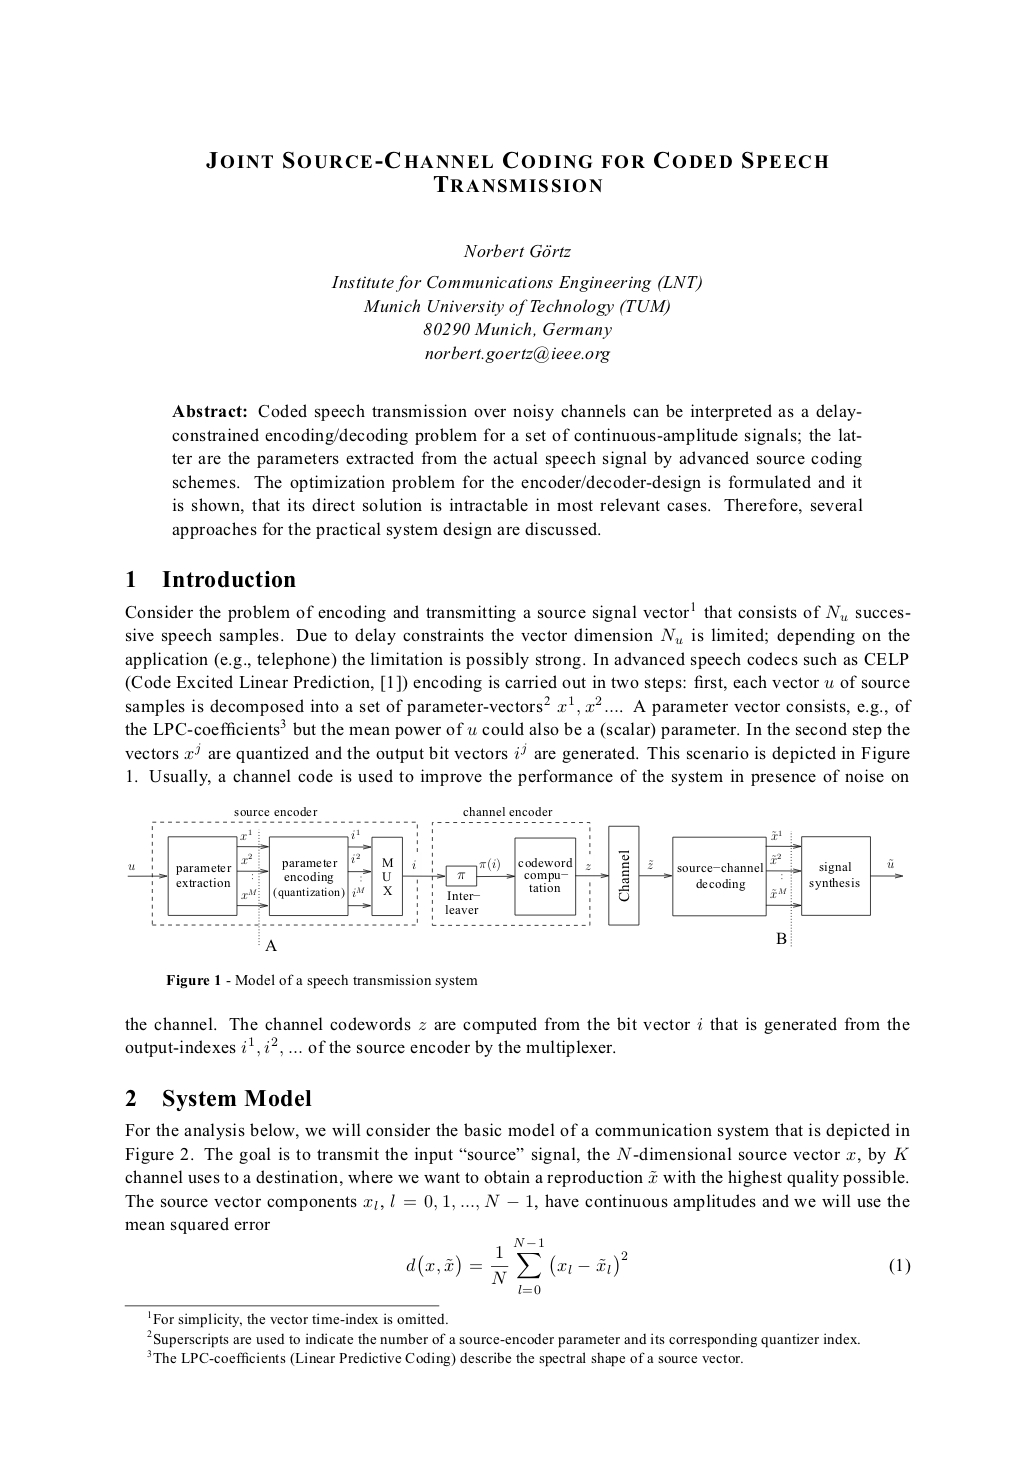figure: (127, 806, 902, 950)
formula: (406, 1238, 910, 1294)
